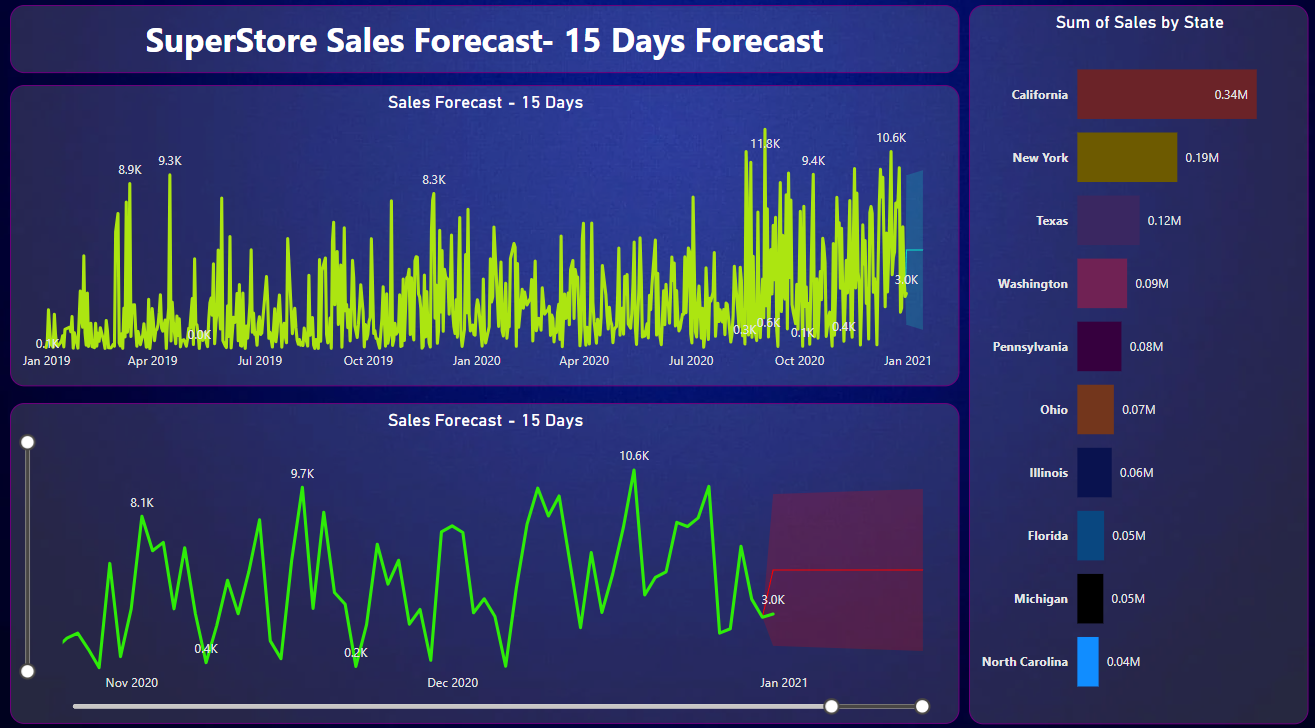

What the dashboard file says about the page in this screenshot:
{"tool":"powerbi","page":{"name":"Sales Forecast","canvas":[1280,720],"ordinal":1},"visuals":[{"type":"lineChart","title":"Sales Forecast - 15 Days","fields":{"Y":["Sum(SuperStore_Sales_Dataset.Sales)"],"Category":["SuperStore_Sales_Dataset.Order Date"]},"box":[10.7,87.2,919.5,291.7],"z":0},{"type":"lineChart","title":"Sales Forecast - 15 Days","fields":{"Y":["Sum(SuperStore_Sales_Dataset.Sales)"],"Category":["SuperStore_Sales_Dataset.Order Date"]},"box":[10.7,395.3,919.5,311],"z":1000},{"type":"clusteredBarChart","fields":{"Y":["Sum(SuperStore_Sales_Dataset.Sales)"],"Category":["SuperStore_Sales_Dataset.State"]},"box":[939.9,9.7,329.4,696.7],"z":2000},{"type":"textbox","box":[10.7,9.7,919.5,65.9],"z":2001}]}

Visuals, with their boxes in screenshot pixels (x1, y1, x2, y2), scaled from the page's 1280x720 canvas onto the 1315x728 screenshot:
"Sales Forecast - 15 Days" lineChart: [x1=11, y1=88, x2=956, y2=383]
"Sales Forecast - 15 Days" lineChart: [x1=11, y1=400, x2=956, y2=714]
clusteredBarChart - Sum(SuperStore_Sales_Dataset.Sales) x SuperStore_Sales_Dataset.State: [x1=966, y1=10, x2=1304, y2=714]
textbox: [x1=11, y1=10, x2=956, y2=76]
